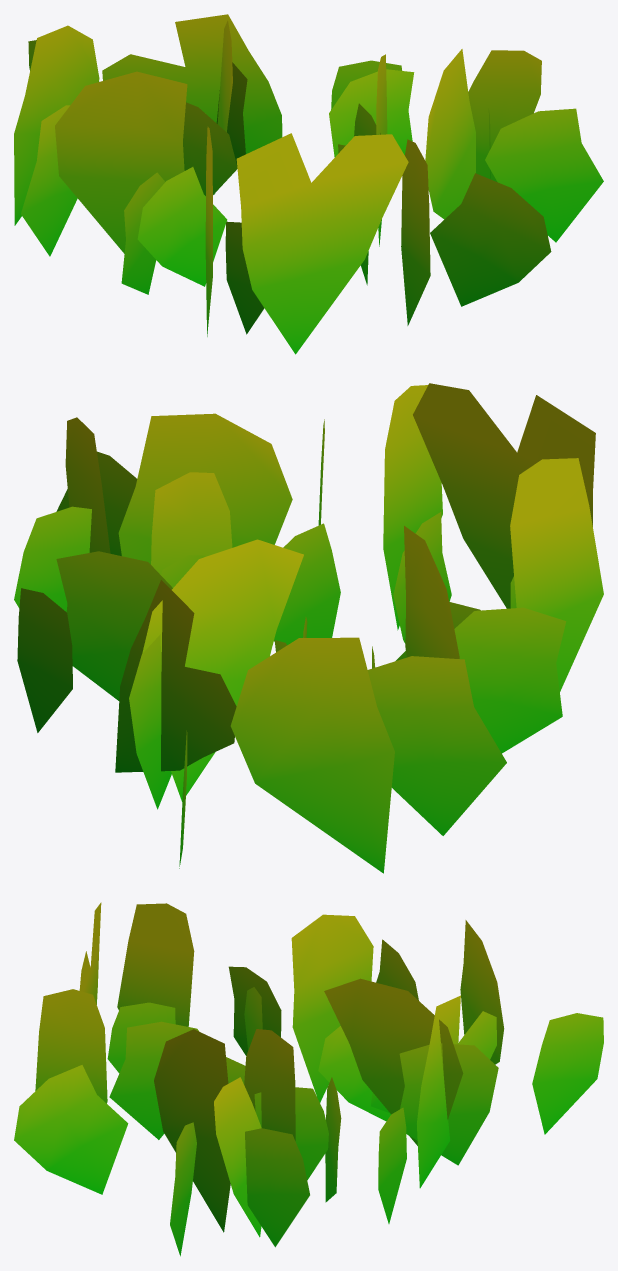
File: Lingonberry_LOD4_Var18_wjhjahlqx.fbx
3 views of the same model, one above another, from view 1: azimuth 30°, elevation 25°; view 2: azimuth 150°, elevation 25°; view 3: azimuth 270°, elevation 25° (orthographic). The views are drawn at different scales.
Parts seen in each view (by area): view 1: _mh2r_Var18_LOD4; view 2: _mh2r_Var18_LOD4; view 3: _mh2r_Var18_LOD4.
Boxes of the visible parts, x1=… form: _mh2r_Var18_LOD4: x1=14, y1=14, x2=603, y2=354; _mh2r_Var18_LOD4: x1=14, y1=383, x2=603, y2=873; _mh2r_Var18_LOD4: x1=14, y1=902, x2=603, y2=1256.
Bounding box in the file's own units: 35.14 × 15.63 × 40.35.
